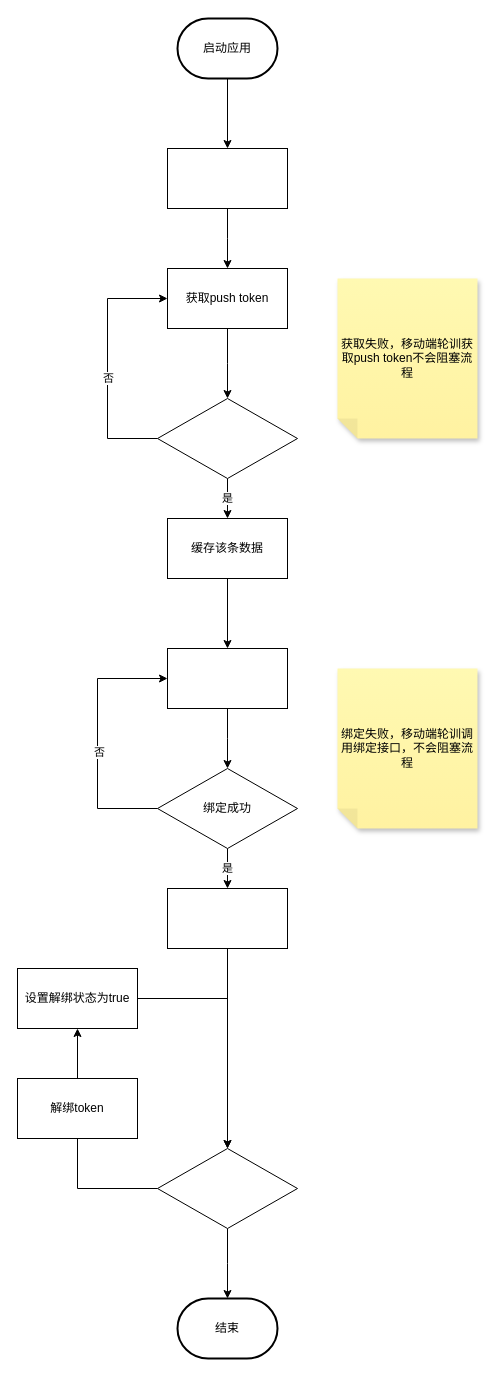
Image size: 501x1376. Some labels were removed from this diagram. The centre of each missing label's shape, as x and y in pixels:
"修改该条数据的绑定状态为true" goes at point (227, 918).
"查询该用户在其他平台解绑" goes at point (227, 1188).
"登录" goes at point (227, 178).
"获取push token成功" goes at point (227, 438).
"调用服务端，绑定token" goes at point (227, 678).
